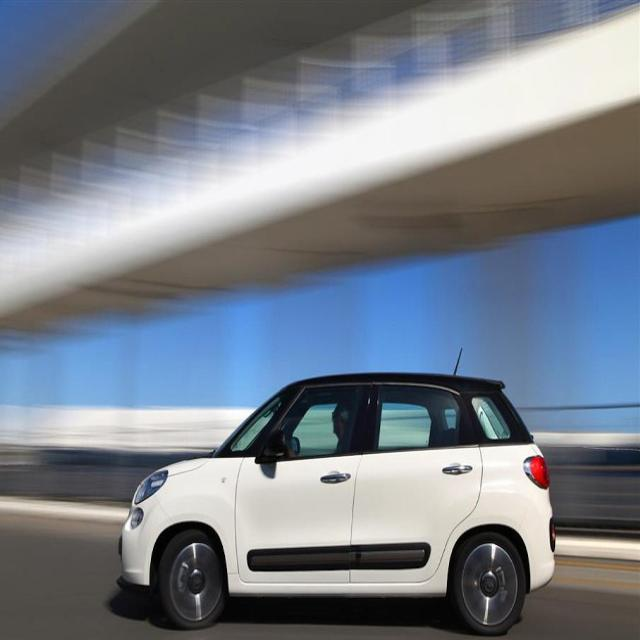back_left_side_light: (523, 452, 550, 490)
door: (367, 375, 488, 579)
front_bumper: (115, 490, 173, 587)
front_glass: (222, 382, 292, 455)
front_left_side_door: (234, 377, 376, 588)
front_left_side_light: (132, 466, 170, 506)
front_left_side_mirror: (265, 425, 287, 458)
rear_bumper: (515, 485, 558, 591)
wheel: (456, 528, 524, 632), (160, 530, 226, 626)
